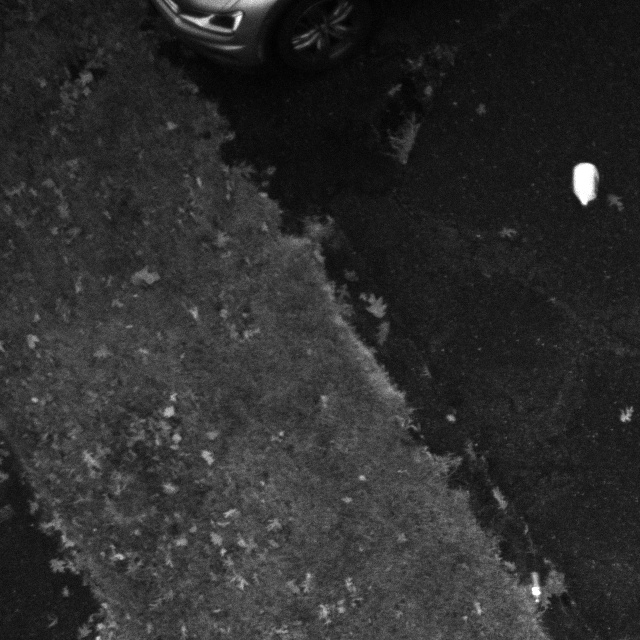bottle: (527, 569, 547, 608)
can: (566, 156, 604, 206)
